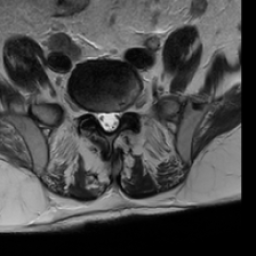CCS_normal: (106, 105, 113, 136)
LFS_severe_stenosis: (119, 102, 128, 119)
LLS_normal: (113, 107, 121, 130)
RFS_severe_stenosis: (87, 104, 97, 124)
RLS_normal: (97, 105, 106, 131)
